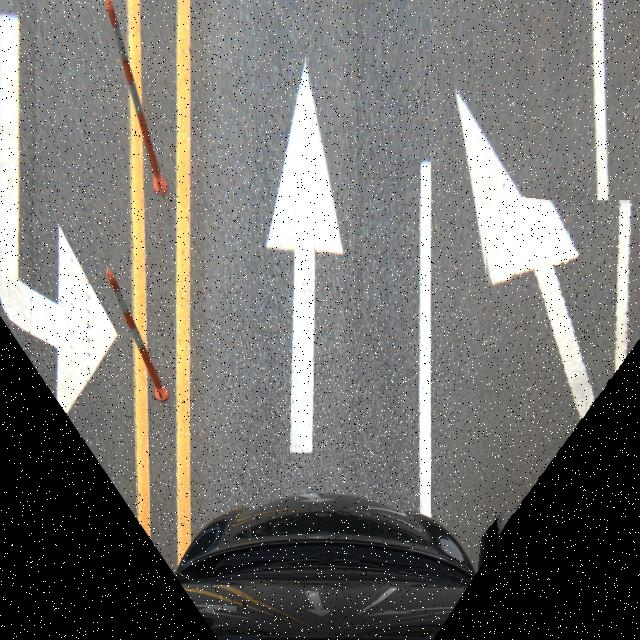left: (483, 200, 640, 636)
